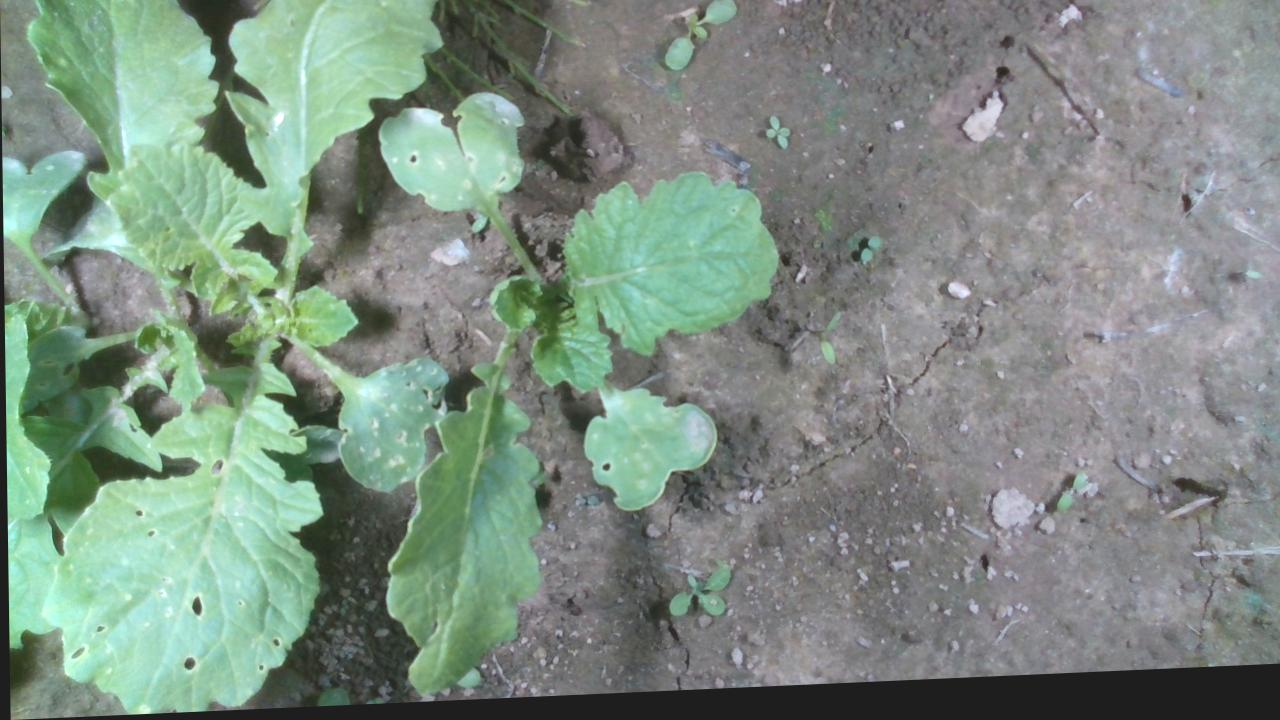weed: (661, 0, 735, 79), (663, 570, 730, 630), (1053, 479, 1088, 523), (761, 118, 790, 159), (858, 241, 879, 270)
